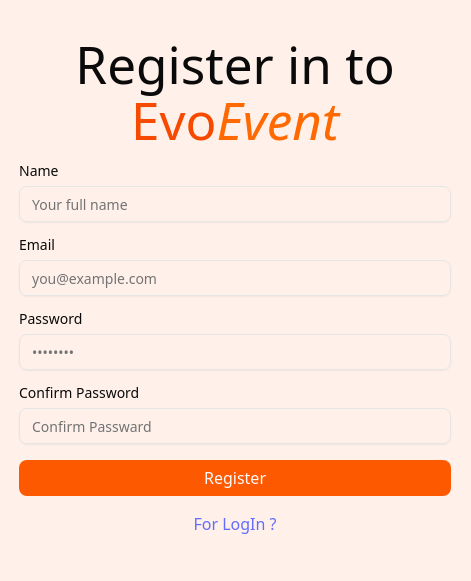
Test case: Register Page with react-hook-form and axios › shows error for invalid email
The image size is (471, 581).
Use an invalid email format
Type "invalidEmail" into the field with placeholder "you@example.com". click: (235, 278)
box: x1=19 y1=260 x2=451 y2=296
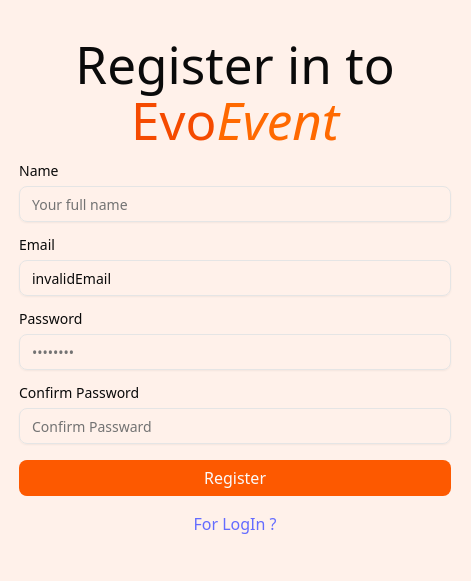
Type "123456" into the password field with placeholder "••••••••". click: (235, 352)
box: x1=19 y1=334 x2=451 y2=370
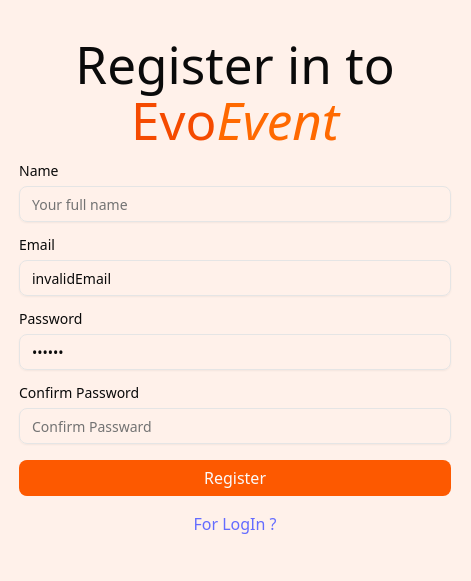
Submit the form
Submit the form, box x1=19 y1=164 x2=451 y2=536
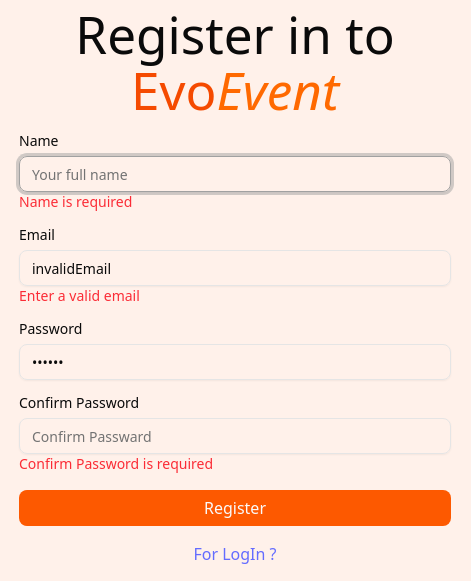
Expected: the text "Enter a valid email" is shown, x1=19 y1=286 x2=140 y2=305
